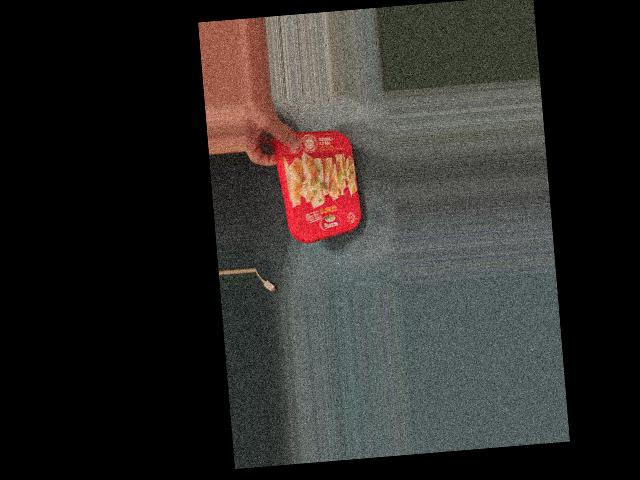cheese: (269, 125, 364, 242)
